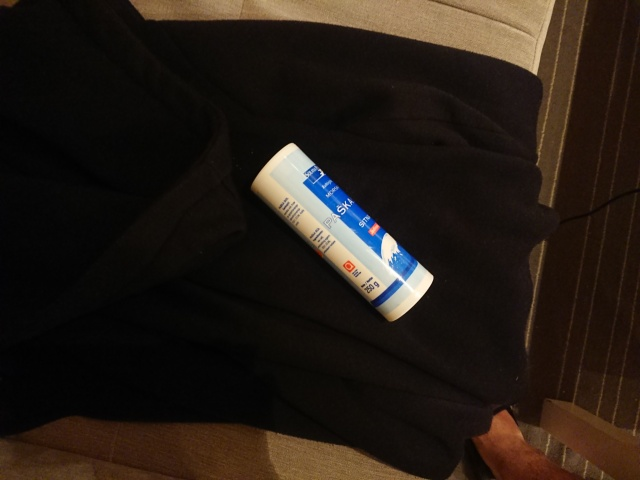Solana Pag Fine Sea Salt 250g: (248, 139, 435, 325)
